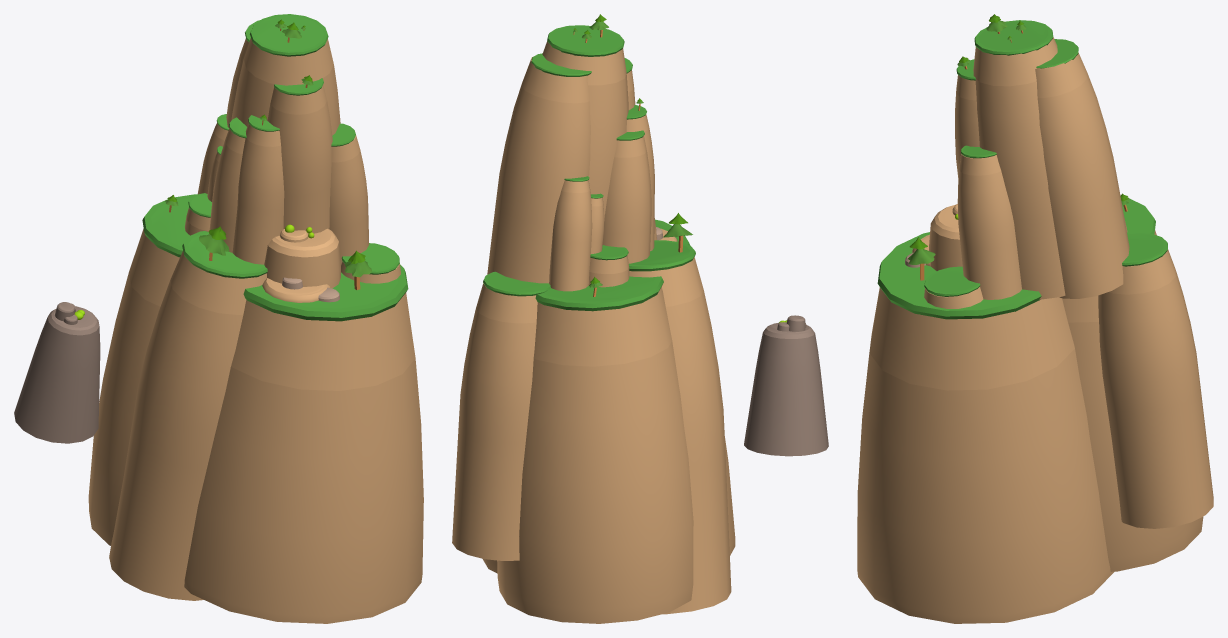
Rendered from ISLAND2.3.fbx.
3 views of the same model, side by side, from view 1: azimuth 30°, elevation 25°; view 2: azimuth 150°, elevation 25°; view 3: azimuth 270°, elevation 25° (orthographic). The views are drawn at different scales.
Visible parts, largest first — view 1: ISLAND; view 2: ISLAND; view 3: ISLAND.
Part boxes in pixels (<box>): ISLAND: <box>14,14,423,623</box>; ISLAND: <box>452,14,828,623</box>; ISLAND: <box>857,14,1213,623</box>.
Size of the model in its own units: 741 by 1097 by 630.
